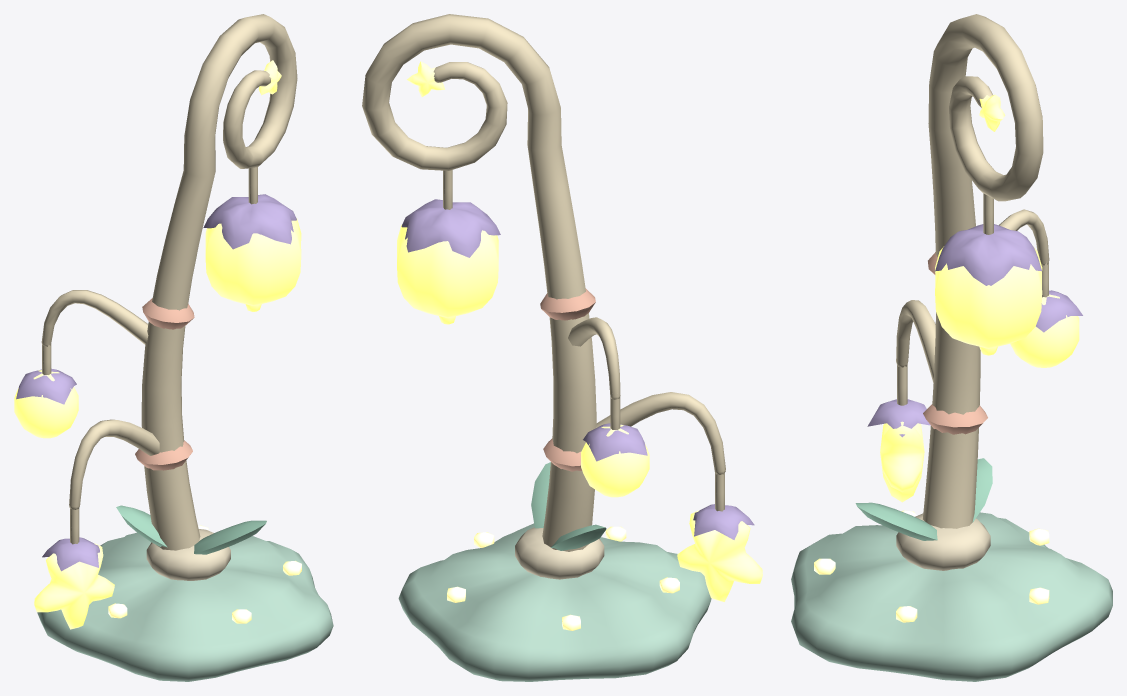
Rendered from lamp.fbx.
The picture shows the model from 3 angles, left to right: view 1: azimuth 30°, elevation 25°; view 2: azimuth 150°, elevation 25°; view 3: azimuth 270°, elevation 25°; orthographic projection. The views are drawn at different scales.
Visible parts, largest first — view 1: Lamp_Stem, Lamp_Base, Lamp_GlowBud_Main, Lamp_Caps, Lamp_GlowStar, Lamp_Collar, Lamp_GlowBerry, Lamp_Leaves, Lamp_StemNodes, Lamp_BaseGlowDots; view 2: Lamp_Stem, Lamp_Base, Lamp_GlowBud_Main, Lamp_Caps, Lamp_GlowStar, Lamp_Collar, Lamp_GlowBerry, Lamp_StemNodes, Lamp_Leaves, Lamp_BaseGlowDots, Lamp_GlowCurlTip; view 3: Lamp_Base, Lamp_Stem, Lamp_GlowBud_Main, Lamp_Caps, Lamp_Collar, Lamp_GlowStar, Lamp_GlowBerry, Lamp_Leaves, Lamp_StemNodes, Lamp_BaseGlowDots, Lamp_GlowCurlTip.
Part boxes in pixels (box(x1,y1,x2,y2)): Lamp_Stem: box(41, 14, 297, 550); Lamp_Base: box(37, 532, 333, 681); Lamp_GlowBud_Main: box(205, 218, 301, 311); Lamp_Caps: box(16, 194, 296, 571); Lamp_GlowStar: box(34, 543, 114, 629); Lamp_Collar: box(146, 529, 230, 580); Lamp_GlowBerry: box(14, 370, 78, 438); Lamp_Leaves: box(116, 505, 266, 554); Lamp_StemNodes: box(135, 298, 194, 470); Lamp_BaseGlowDots: box(108, 525, 301, 623); Lamp_Stem: box(362, 14, 725, 551); Lamp_Base: box(398, 523, 711, 681); Lamp_GlowBud_Main: box(397, 225, 498, 324); Lamp_Caps: box(401, 199, 754, 539); Lamp_GlowStar: box(677, 510, 762, 601); Lamp_Collar: box(515, 527, 604, 579); Lamp_GlowBerry: box(581, 424, 649, 497); Lamp_StemNodes: box(540, 288, 595, 471); Lamp_Leaves: box(531, 462, 606, 550); Lamp_BaseGlowDots: box(447, 526, 679, 630); Lamp_GlowCurlTip: box(407, 61, 444, 96); Lamp_Base: box(791, 512, 1112, 681); Lamp_Stem: box(896, 14, 1049, 528); Lamp_GlowBud_Main: box(935, 246, 1042, 355); Lamp_Caps: box(867, 224, 1082, 437); Lamp_Collar: box(896, 513, 990, 570); Lamp_GlowStar: box(880, 421, 924, 502); Lamp_GlowBerry: box(1010, 294, 1079, 367); Lamp_Leaves: box(855, 458, 992, 540); Lamp_StemNodes: box(923, 252, 987, 434); Lamp_BaseGlowDots: box(814, 510, 1049, 622); Lamp_GlowCurlTip: box(979, 94, 1005, 131).
Size of the model in its own units: 1.11 by 1.91 by 0.8681.
